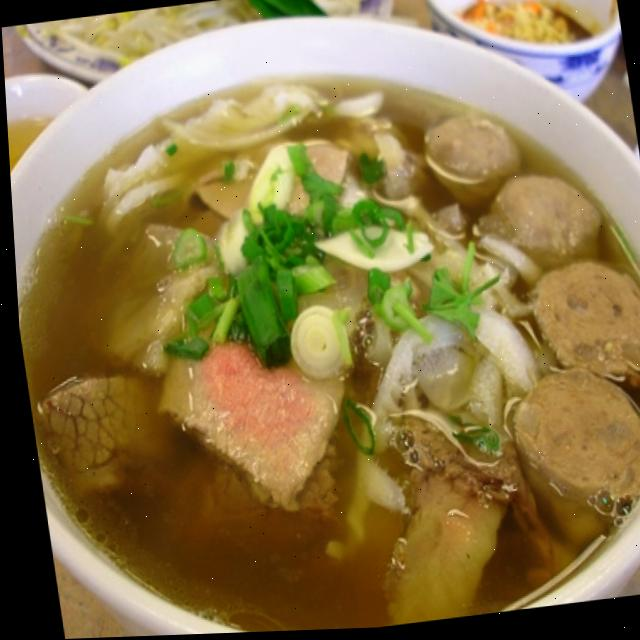面条主食: (2, 21, 640, 640)
